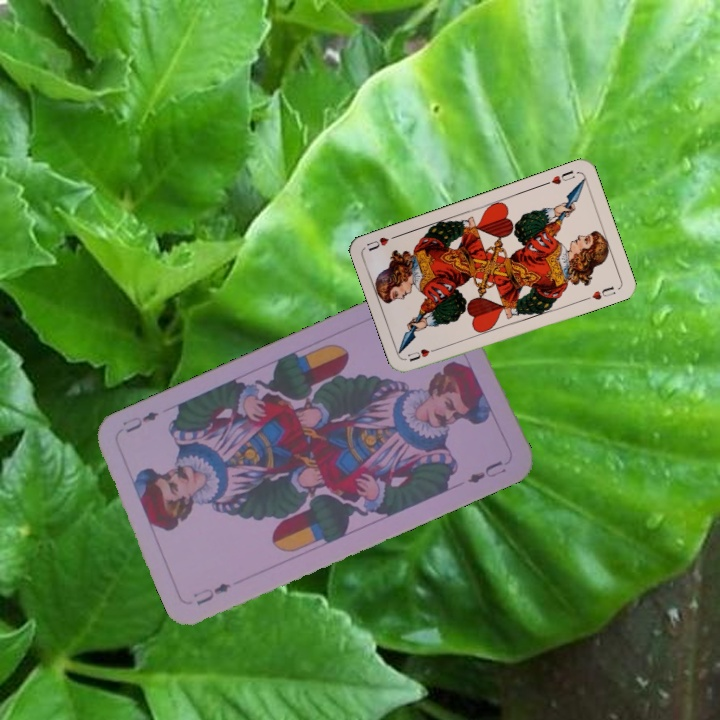EU: (189, 579, 234, 608)
HU: (404, 343, 442, 364), (541, 166, 577, 188)
